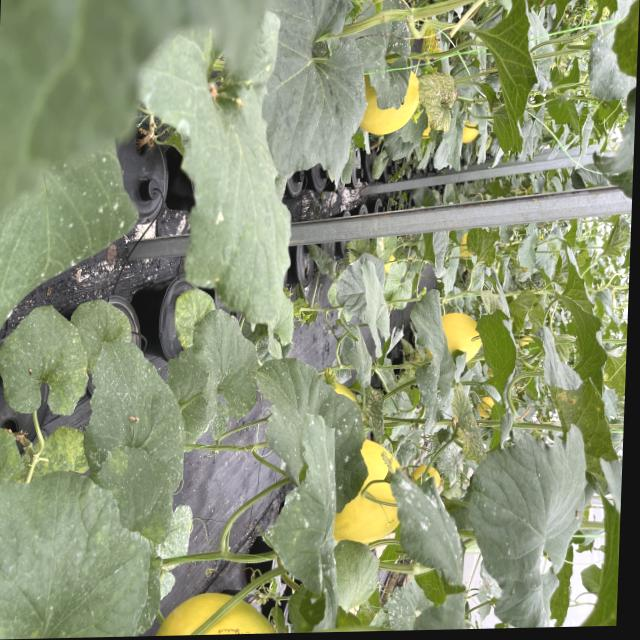alternaria leaf blight: (542, 381, 619, 461), (446, 383, 485, 465), (415, 72, 453, 129)
powdery mildew: (138, 8, 305, 299), (0, 140, 142, 310), (0, 481, 151, 640), (250, 356, 371, 509), (270, 0, 370, 161), (84, 340, 185, 495), (271, 410, 340, 633), (188, 307, 278, 444), (379, 467, 468, 588), (96, 444, 173, 543), (353, 0, 413, 103)
